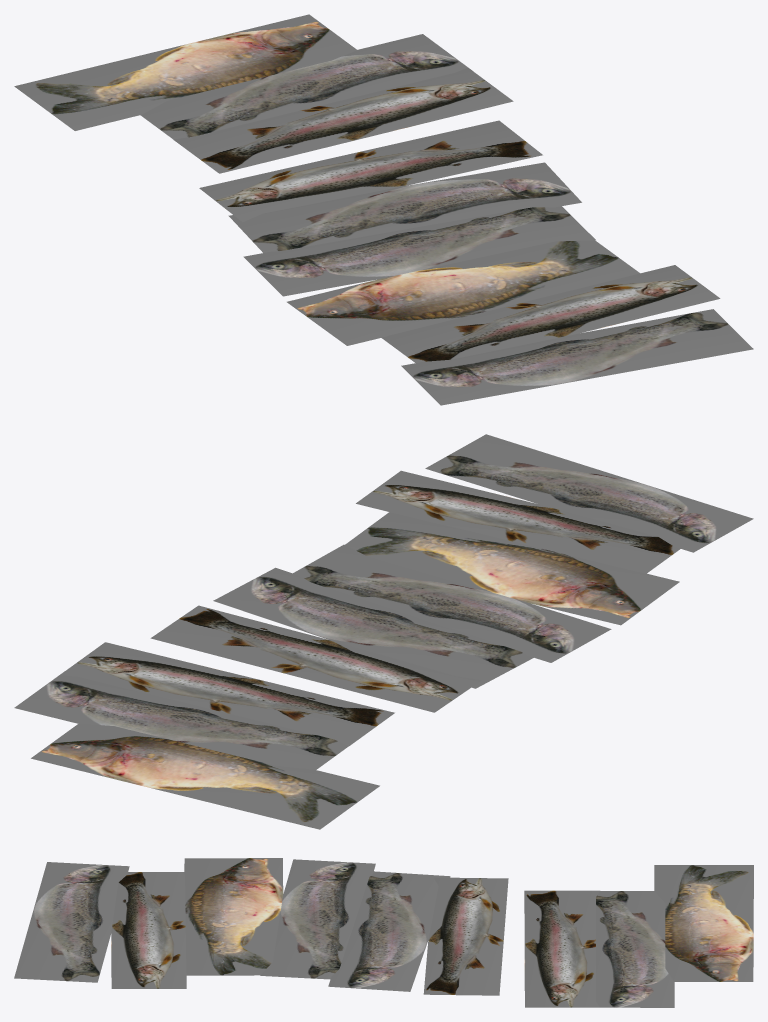
File: fish_booth02_LOD03.fbx
The picture shows the model from 3 angles, top to bottom: view 1: azimuth 30°, elevation 25°; view 2: azimuth 150°, elevation 25°; view 3: azimuth 270°, elevation 25°; orthographic projection. The views are drawn at different scales.
Parts seen in each view (by area): view 1: Mesh Object; view 2: Mesh Object; view 3: Mesh Object.
Boxes of the visible parts, <box> form: Mesh Object: <box>14,14,753,405</box>; Mesh Object: <box>14,434,753,829</box>; Mesh Object: <box>14,858,753,1007</box>.
Bounding box in the file's own units: 0.8333 × 0.0214 × 1.74.
